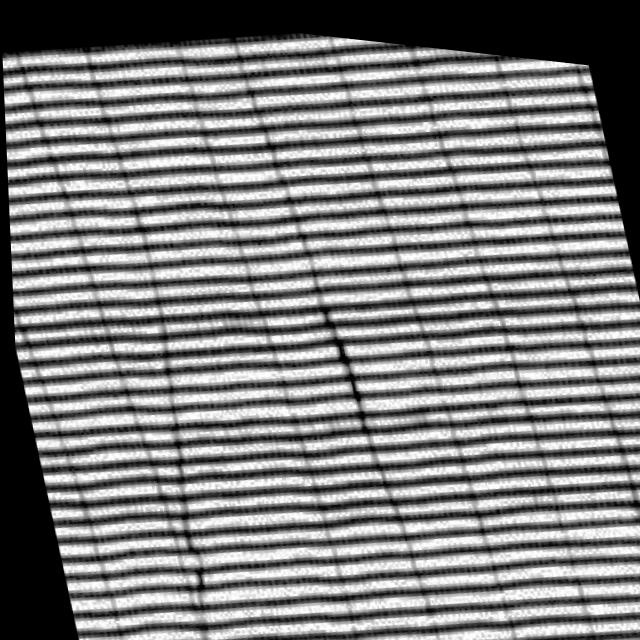Stitch: (88, 335, 308, 640), (238, 193, 434, 530)
